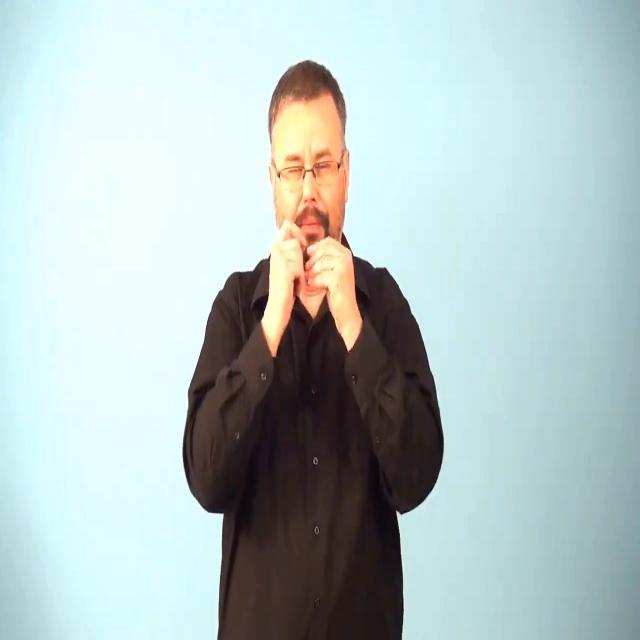juicy: (258, 213, 368, 344)
